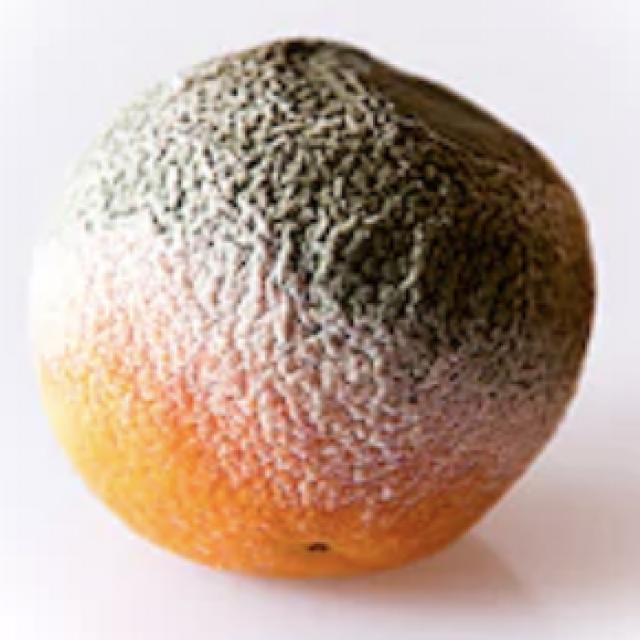rotten-orange: (27, 32, 593, 570)
